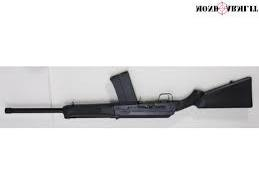larga: (5, 70, 254, 121)
